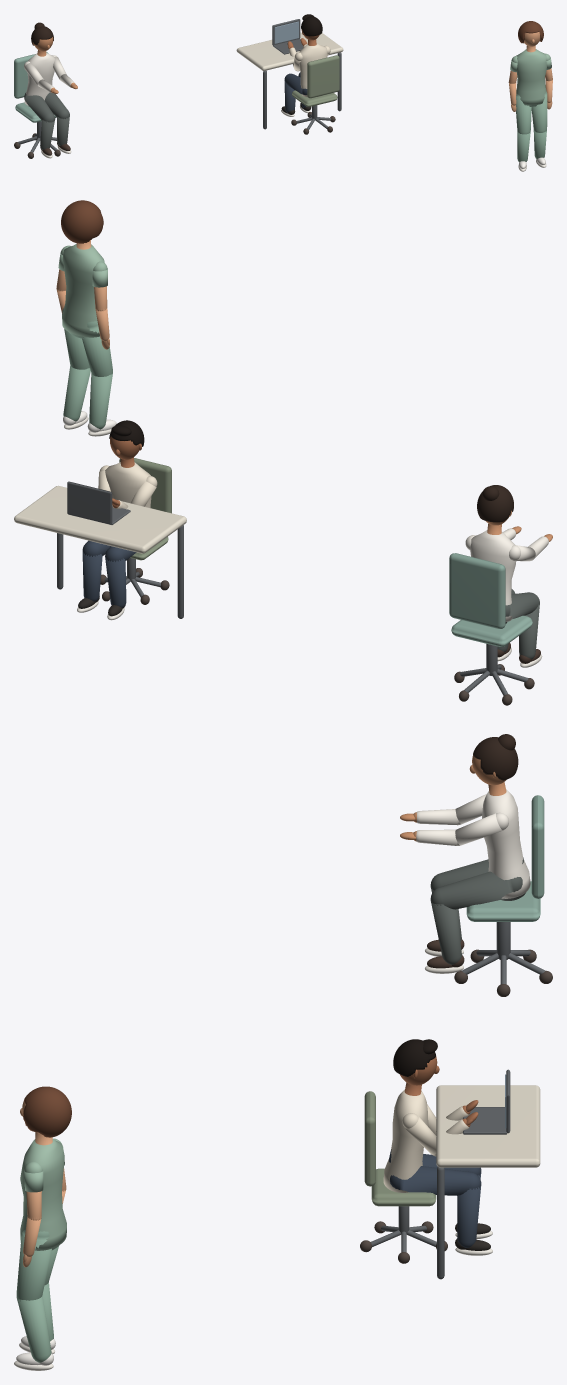
The model's file is team-people.glb.
The picture shows the model from 3 angles, top to bottom: view 1: azimuth 30°, elevation 25°; view 2: azimuth 150°, elevation 25°; view 3: azimuth 270°, elevation 25°; orthographic projection. The views are drawn at different scales.
Parts seen in each view (by area): view 1: Staff_Clinical_1__Staff_Clinical_1_top, Staff_Clinical_1__Staff_Clinical_1_bottom, Team_Admin_Workstation__Team knit • olive, Staff_Front_1__Staff_Front_1_bottom, Team_Admin_Workstation__Team worktop • warm enamel, Staff_Front_1__Staff_Front_1_top, Team_Admin_Workstation__Team metal, Staff_Admin_1__Staff_Admin_1_top, Team_Reception_Seat__Team scrubs • sage, Staff_Clinical_1__Staff_Clinical_1_skin, Staff_Admin_1__Staff_Admin_1_bottom, Team_Admin_Workstation__Team shirt • slate (+5 smaller); view 2: Team_Reception_Seat__Team scrubs • sage, Team_Admin_Workstation__Team worktop • warm enamel, Staff_Clinical_1__Staff_Clinical_1_bottom, Team_Admin_Workstation__Team metal, Staff_Clinical_1__Staff_Clinical_1_top, Staff_Admin_1__Staff_Admin_1_bottom, Staff_Front_1__Staff_Front_1_top, Staff_Admin_1__Staff_Admin_1_top, Staff_Clinical_1__Staff_Clinical_1_hair, Staff_Front_1__Staff_Front_1_bottom, Team_Admin_Workstation__Team knit • olive, Staff_Front_1__Staff_Front_1_hair (+4 smaller); view 3: Team_Admin_Workstation__Team worktop • warm enamel, Staff_Front_1__Staff_Front_1_top, Staff_Front_1__Staff_Front_1_bottom, Staff_Admin_1__Staff_Admin_1_top, Staff_Clinical_1__Staff_Clinical_1_top, Staff_Clinical_1__Staff_Clinical_1_bottom, Staff_Admin_1__Staff_Admin_1_bottom, Team_Admin_Workstation__Team metal, Team_Reception_Seat__Team scrubs • sage, Team_Admin_Workstation__Team knit • olive, Staff_Clinical_1__Staff_Clinical_1_hair, Staff_Front_1__Staff_Front_1_hair (+5 smaller).
Part boxes in pixels (x1,y1,x2,y2): Staff_Clinical_1__Staff_Clinical_1_top: (510,49,551,105); Staff_Clinical_1__Staff_Clinical_1_bottom: (516,91,547,161); Team_Admin_Workstation__Team knit • olive: (292,55,339,106); Staff_Front_1__Staff_Front_1_bottom: (24,92,69,149); Team_Admin_Workstation__Team worktop • warm enamel: (236,32,343,70); Staff_Front_1__Staff_Front_1_top: (24,53,75,105); Team_Admin_Workstation__Team metal: (263,19,341,129); Staff_Admin_1__Staff_Admin_1_top: (289,43,330,97); Team_Reception_Seat__Team scrubs • sage: (14,52,56,122); Staff_Clinical_1__Staff_Clinical_1_skin: (508,32,552,111); Staff_Admin_1__Staff_Admin_1_bottom: (284,72,307,112); Team_Admin_Workstation__Team shirt • slate: (274,21,298,43); Team_Reception_Seat__Team scrubs • sage: (449,553,532,646); Team_Admin_Workstation__Team worktop • warm enamel: (14,485,186,553); Staff_Clinical_1__Staff_Clinical_1_bottom: (62,308,112,429); Team_Admin_Workstation__Team metal: (57,481,183,618); Staff_Clinical_1__Staff_Clinical_1_top: (58,244,107,337); Staff_Admin_1__Staff_Admin_1_bottom: (82,540,136,607); Staff_Front_1__Staff_Front_1_top: (465,528,548,621); Staff_Admin_1__Staff_Admin_1_top: (98,462,157,508); Staff_Clinical_1__Staff_Clinical_1_hair: (61,200,103,243); Staff_Front_1__Staff_Front_1_bottom: (497,589,539,658); Team_Admin_Workstation__Team knit • olive: (119,458,171,560); Staff_Front_1__Staff_Front_1_hair: (477,485,513,522); Team_Admin_Workstation__Team worktop • warm enamel: (436,1085,540,1167); Staff_Front_1__Staff_Front_1_top: (416,789,530,898); Staff_Front_1__Staff_Front_1_bottom: (430,857,525,964); Staff_Admin_1__Staff_Admin_1_top: (383,1089,469,1192); Staff_Clinical_1__Staff_Clinical_1_top: (20,1138,66,1250); Staff_Clinical_1__Staff_Clinical_1_bottom: (16,1230,59,1362); Staff_Admin_1__Staff_Admin_1_bottom: (389,1149,481,1247); Team_Admin_Workstation__Team metal: (370,1069,510,1279); Team_Reception_Seat__Team scrubs • sage: (466,795,544,921); Team_Admin_Workstation__Team knit • olive: (364,1091,436,1206); Staff_Clinical_1__Staff_Clinical_1_hair: (23,1086,71,1137); Staff_Front_1__Staff_Front_1_hair: (473,734,518,780).
Size of the model in its own units: 5.93 by 2.01 by 3.52.
